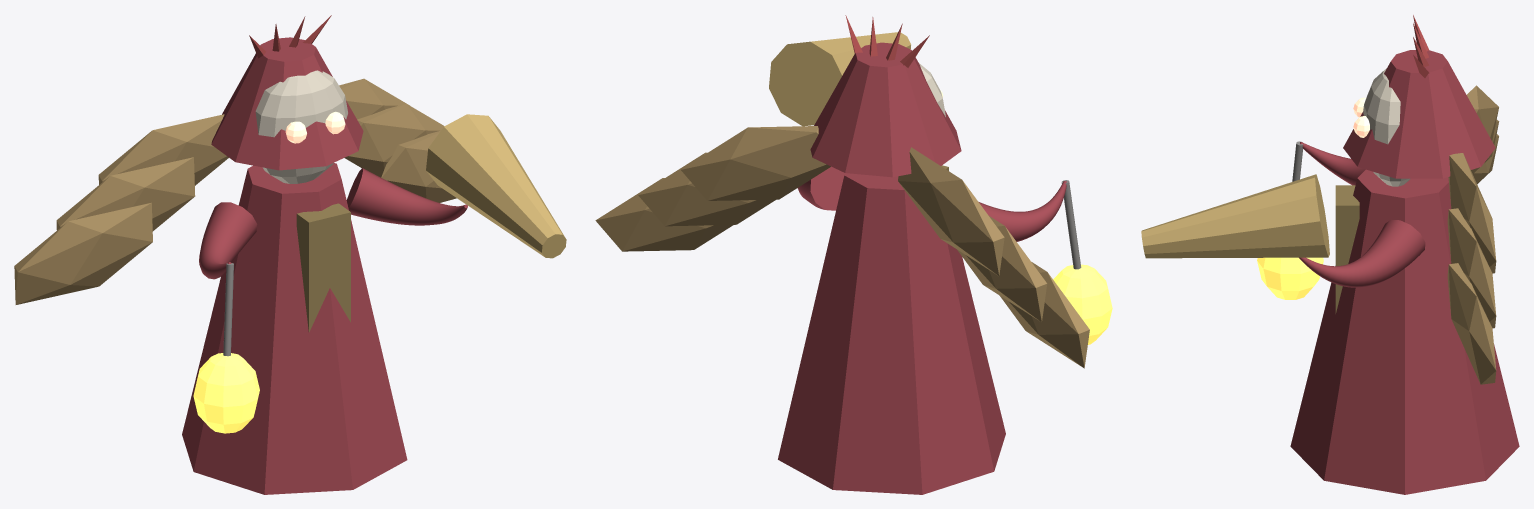
Rendered from withered_herald.glb.
The picture shows the model from 3 angles, left to right: view 1: azimuth 30°, elevation 25°; view 2: azimuth 150°, elevation 25°; view 3: azimuth 270°, elevation 25°; orthographic projection. The views are drawn at different scales.
Parts seen in each view (by area): view 1: withered_herald; view 2: withered_herald; view 3: withered_herald.
Part boxes in pixels (box(x1,y1,x2,y2)): withered_herald: box(14, 15, 566, 494); withered_herald: box(595, 15, 1112, 494); withered_herald: box(1141, 15, 1519, 494).
Size of the model in its own units: 1.15 by 0.9649 by 0.7923.
